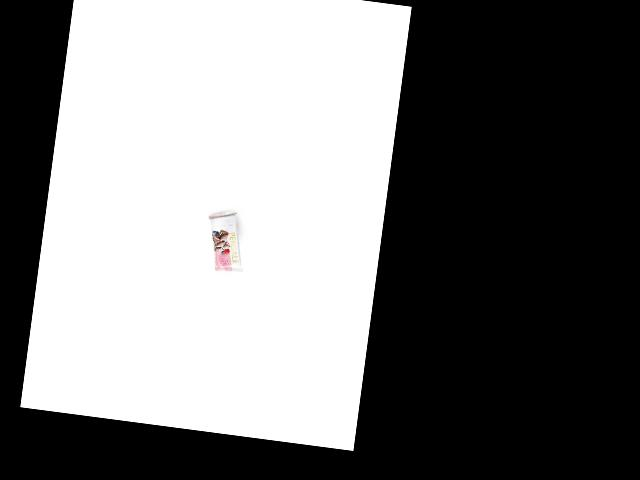chocolate: (200, 210, 249, 273)
